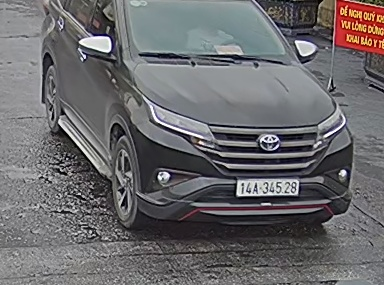vehicle plate: (237, 174, 299, 198)
